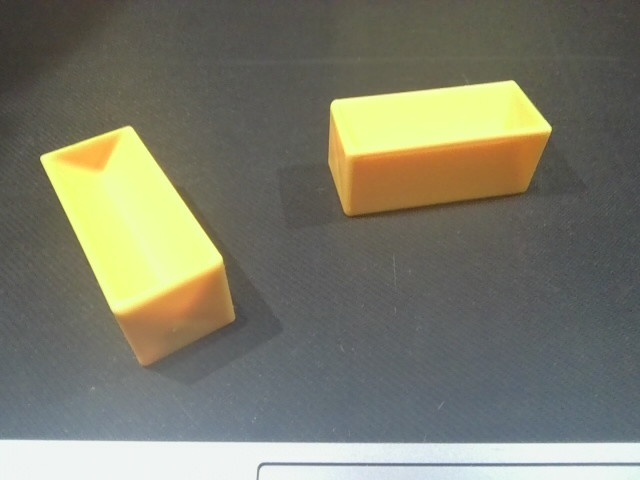YellowSample: (37, 122, 245, 371), (316, 77, 555, 216)
